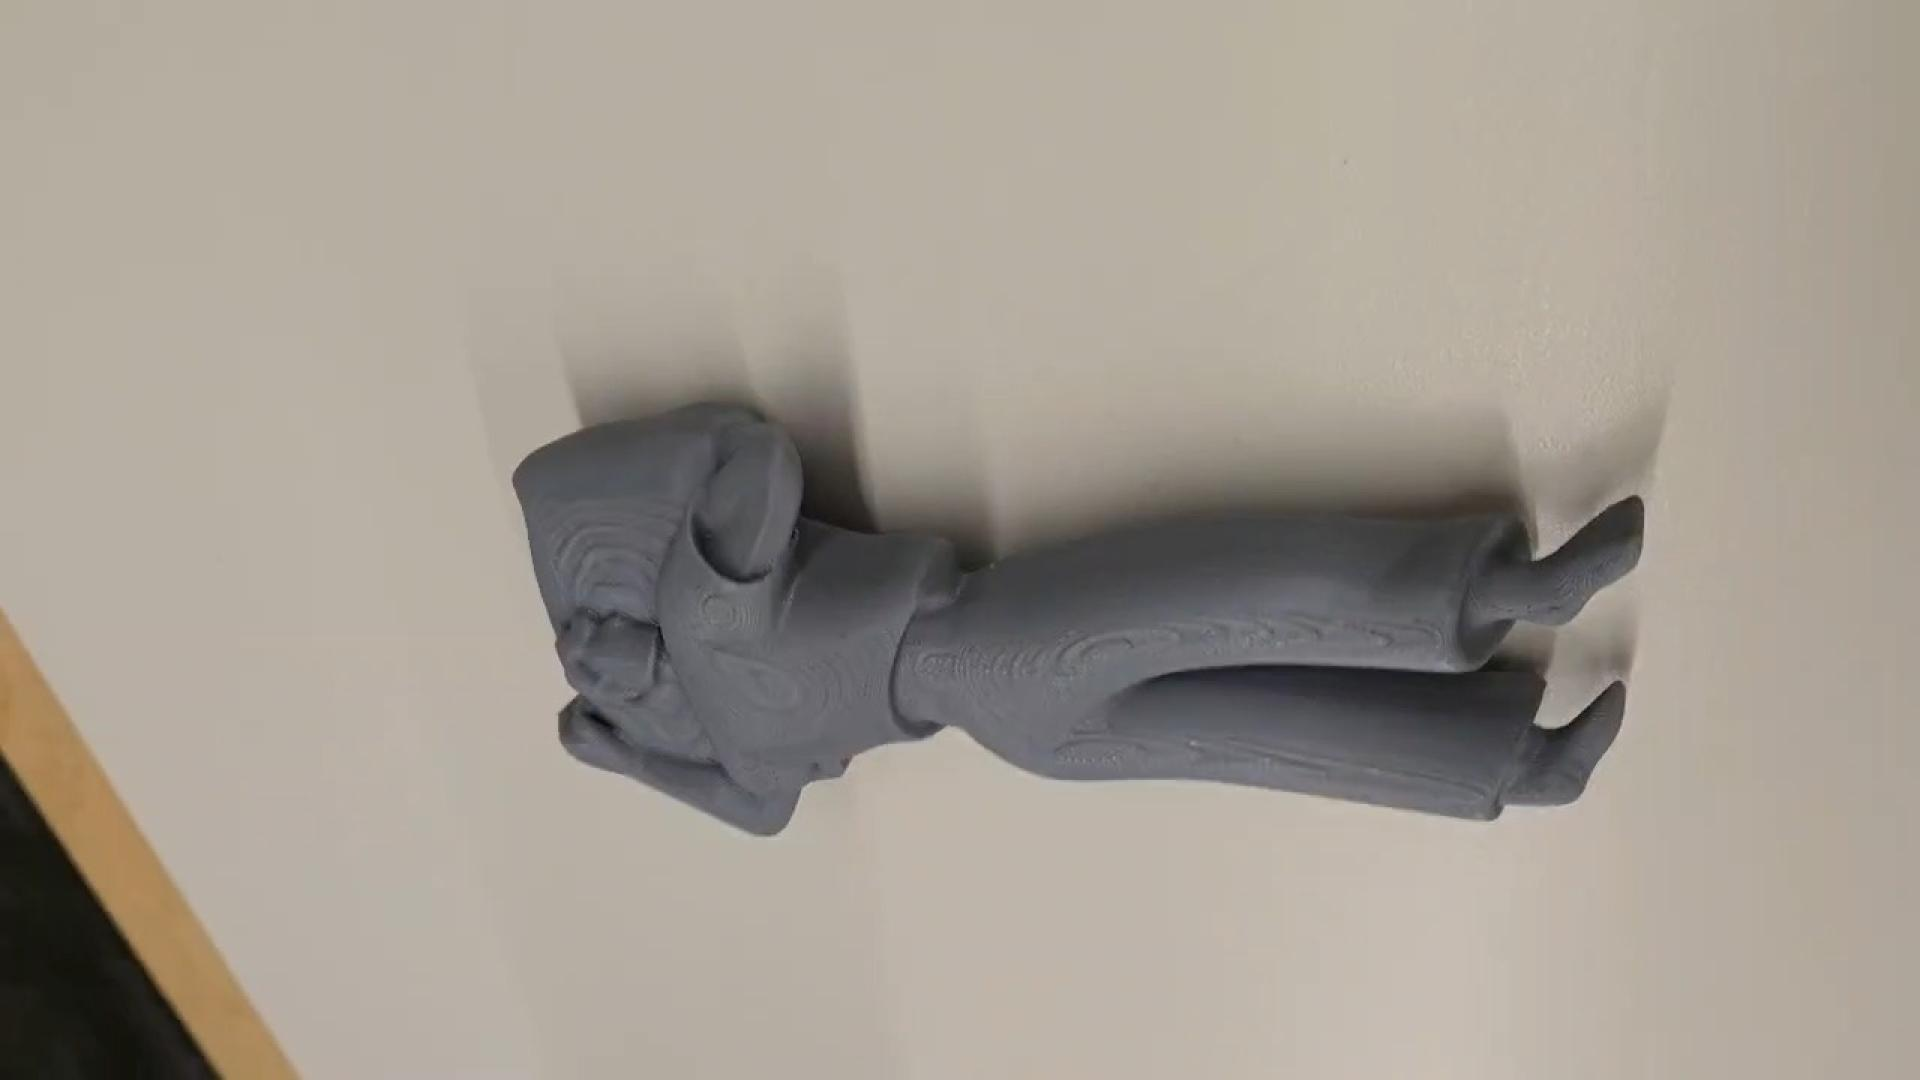Bad-style: (521, 381, 1658, 833)
